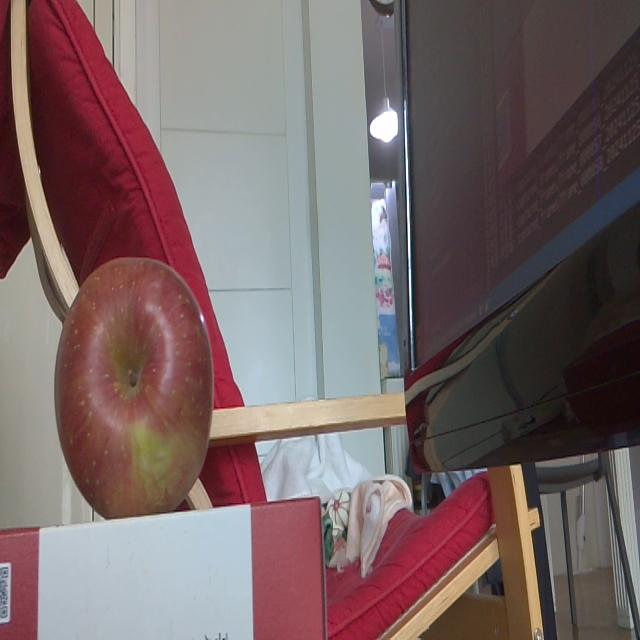apple: (54, 259, 212, 513)
